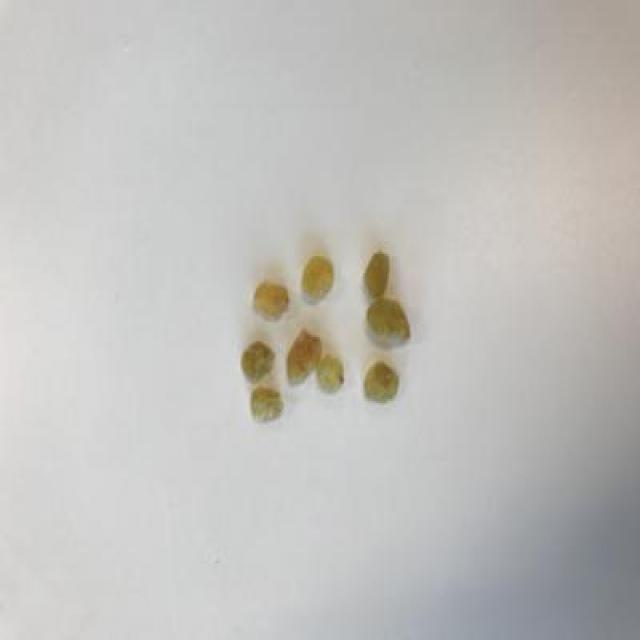compost: (226, 222, 459, 451)
